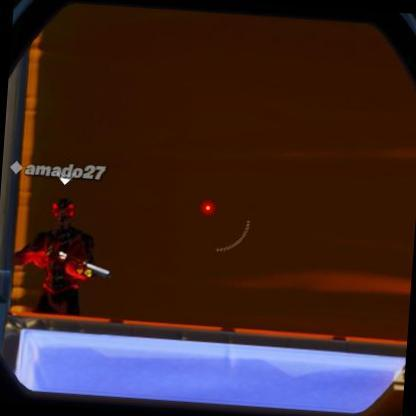person: (27, 198, 89, 310)
